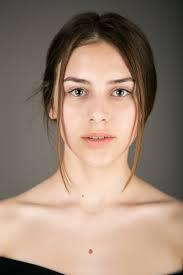person: (37, 4, 158, 160)
